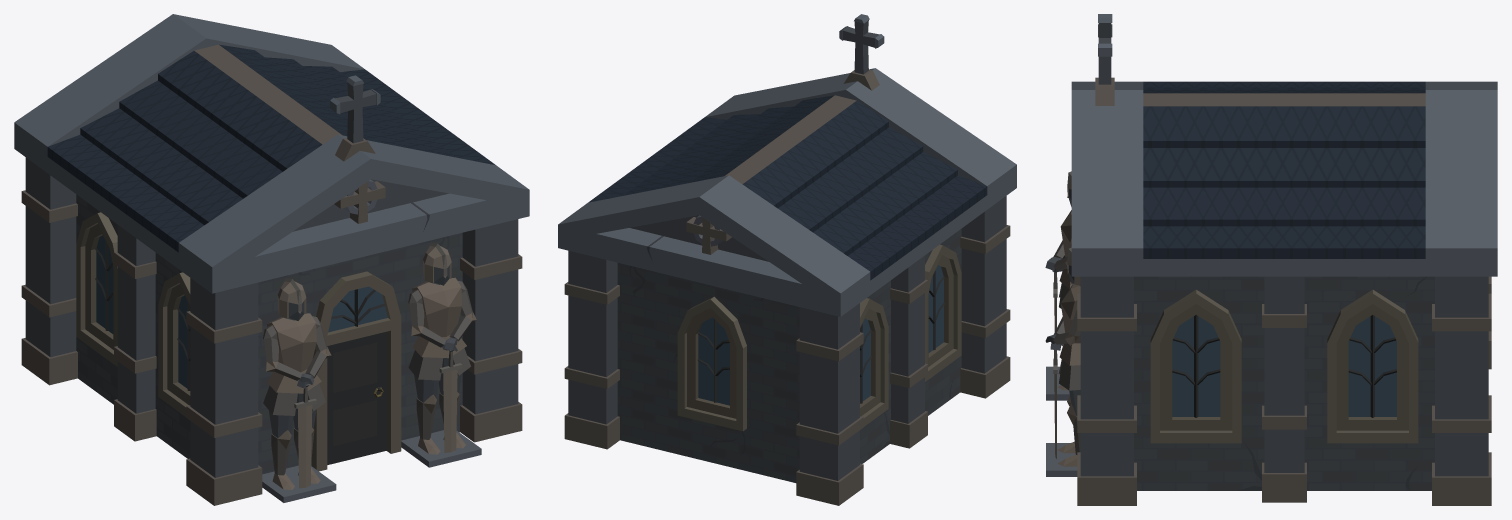
The model's file is Cathedral 01.fbx.
3 renders of one model, left to right at view 1: azimuth 30°, elevation 25°; view 2: azimuth 150°, elevation 25°; view 3: azimuth 270°, elevation 25°, orthographic. The views are drawn at different scales.
Parts seen in each view (by area): view 1: Catheral_01, Door; view 2: Catheral_01; view 3: Catheral_01.
Boxes of the visible parts, box(x1,y1,x2,y2) form: Catheral_01: box(14, 14, 529, 505); Door: box(327, 331, 386, 464); Catheral_01: box(558, 14, 1016, 505); Catheral_01: box(1045, 14, 1497, 505).
Size of the model in its own units: 591 by 676 by 677.
